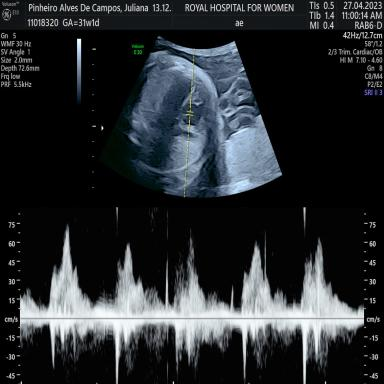Ultrasound-Waves: (25, 206, 362, 384)
